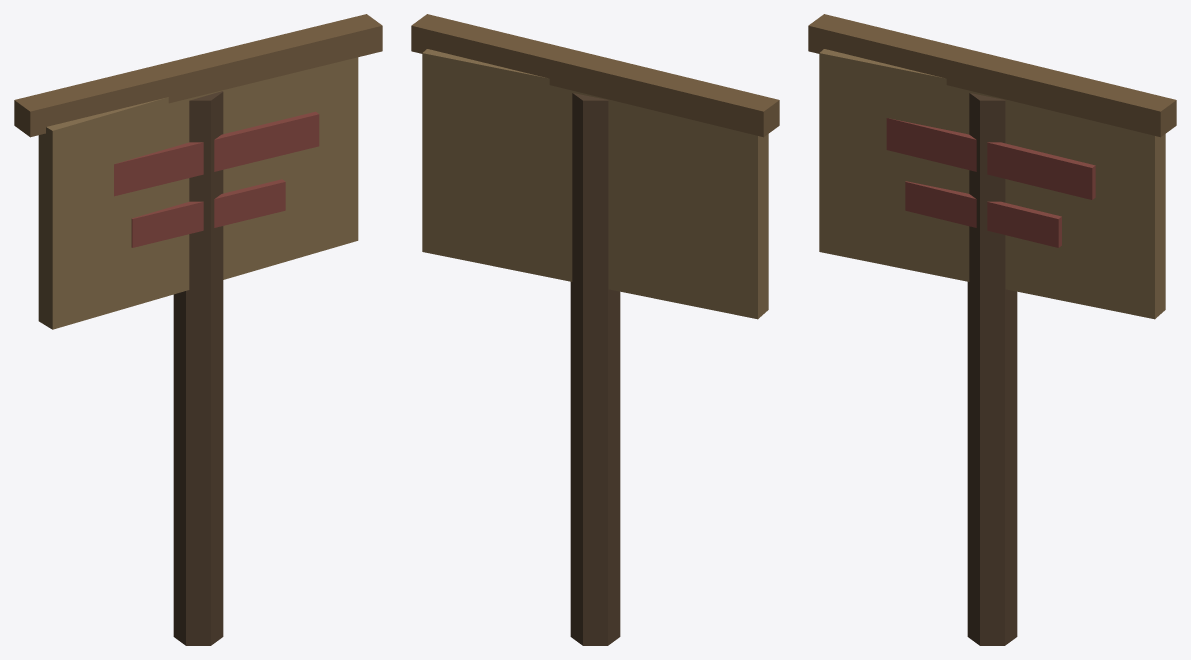
File: P_SignBoard.glb
3 views of the same model, side by side, from view 1: azimuth 30°, elevation 25°; view 2: azimuth 150°, elevation 25°; view 3: azimuth 330°, elevation 25° (orthographic).
Parts seen in each view (by area): view 1: P_SignBoard; view 2: P_SignBoard; view 3: P_SignBoard.
Boxes of the visible parts, left/top/right/bottom form: P_SignBoard: left=14, top=14, right=382, bottom=645; P_SignBoard: left=411, top=14, right=779, bottom=645; P_SignBoard: left=808, top=14, right=1176, bottom=645.
Bounding box in the file's own units: 1.15 × 1.79 × 0.1537.
